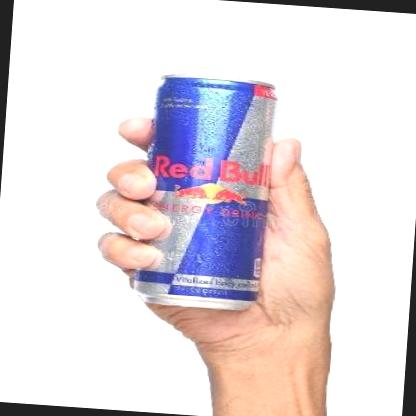alumunium_can: (126, 68, 284, 318)
